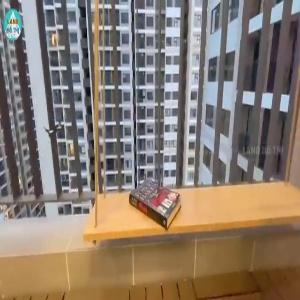drone: (27, 99, 89, 161)
